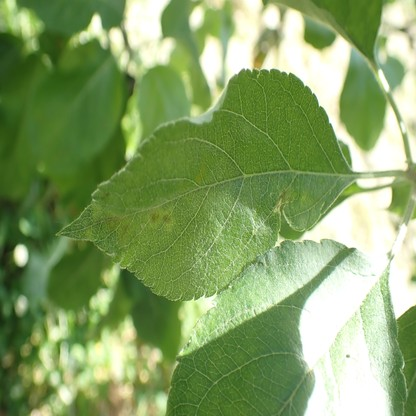scab: (106, 215, 131, 241), (278, 183, 295, 206), (148, 206, 162, 231), (162, 208, 175, 231), (298, 191, 313, 209)
